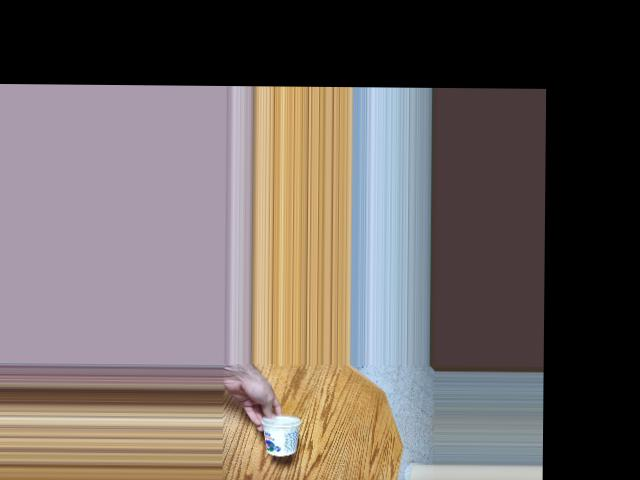cotage: (257, 406, 307, 453)
